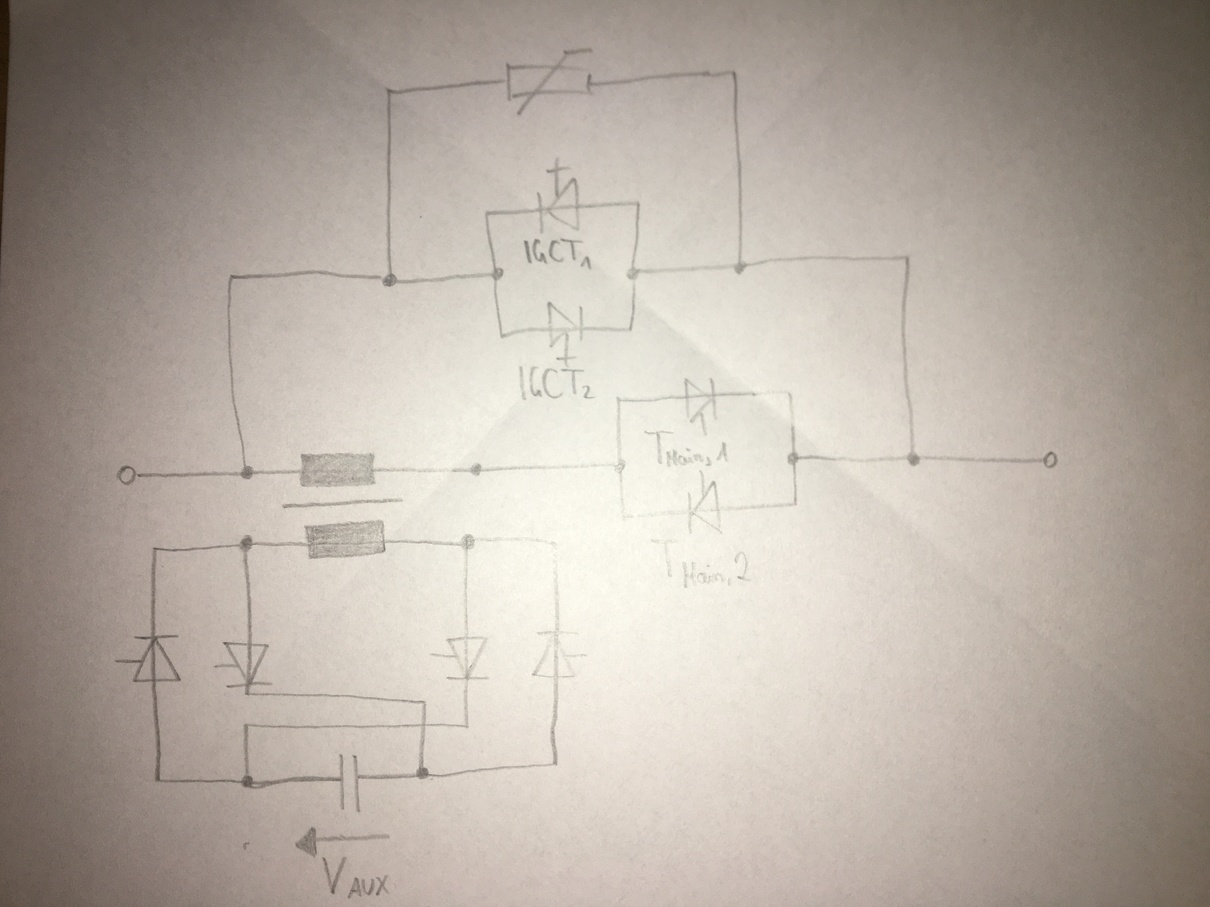capacitor.unpolarized: (336, 750, 364, 815)
crossover: (417, 718, 431, 731)
junction: (377, 270, 402, 289), (457, 532, 478, 553), (237, 533, 255, 553), (624, 265, 642, 284), (413, 765, 432, 783), (905, 449, 922, 468), (489, 265, 508, 282), (731, 259, 750, 276), (240, 772, 256, 792), (612, 457, 628, 475), (240, 463, 255, 481), (786, 450, 802, 466), (547, 536, 563, 550), (382, 84, 397, 98), (149, 543, 163, 557), (547, 757, 561, 771), (900, 251, 915, 264), (416, 697, 431, 709), (783, 386, 796, 399), (239, 719, 252, 732), (630, 198, 643, 210), (727, 67, 740, 79), (151, 774, 164, 786), (461, 720, 474, 732), (790, 497, 802, 509), (618, 510, 630, 522), (226, 271, 238, 283), (495, 330, 507, 342), (481, 208, 494, 219), (625, 322, 636, 335), (613, 394, 624, 406), (242, 689, 252, 699)
terminal: (114, 463, 142, 487), (1041, 449, 1059, 471)
text: (648, 535, 754, 589), (643, 428, 730, 469), (320, 854, 391, 899), (517, 364, 596, 403), (521, 236, 593, 272)
thyristor: (534, 155, 583, 235), (111, 632, 183, 684), (427, 633, 492, 682), (211, 639, 276, 688), (529, 629, 589, 681), (683, 468, 726, 537), (545, 299, 586, 365), (681, 375, 722, 438)
transformer: (281, 450, 407, 562)
varistor: (503, 45, 596, 118)
